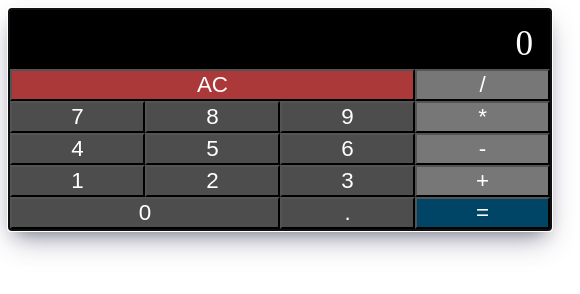
Product Backlog test suite › should reset input and result if the expression is invalid
The width and height of the screenshot is (580, 294).
Click the button "/" at [482, 85], box [415,69,550,101]
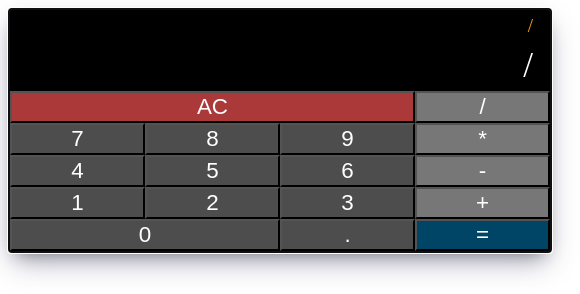
Click the button "." at [348, 235], box [280,219,415,251]
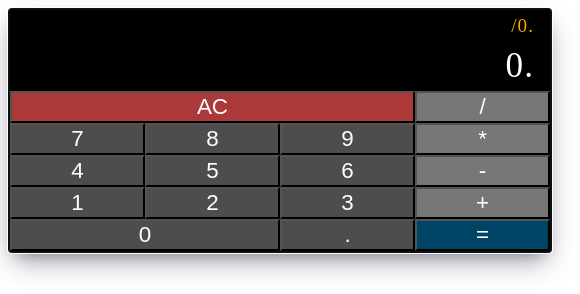
Click the button "*" at [482, 139], box [415,123,550,155]
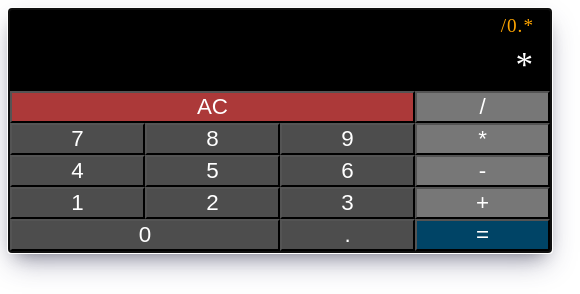
Click the button "2" at [212, 203], box [145,187,280,219]
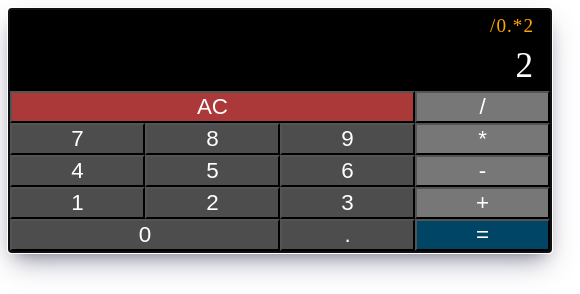
Click the button "=" at [482, 235], box [415,219,550,251]
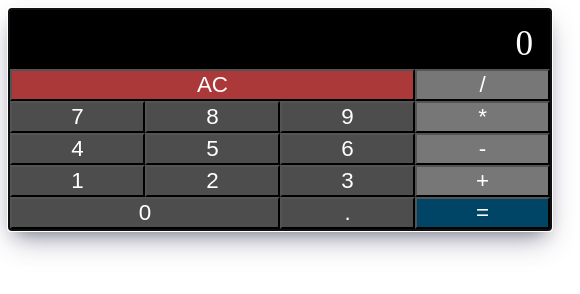
Expected: the text with id "display" reads "0", [515,24,534,63]
